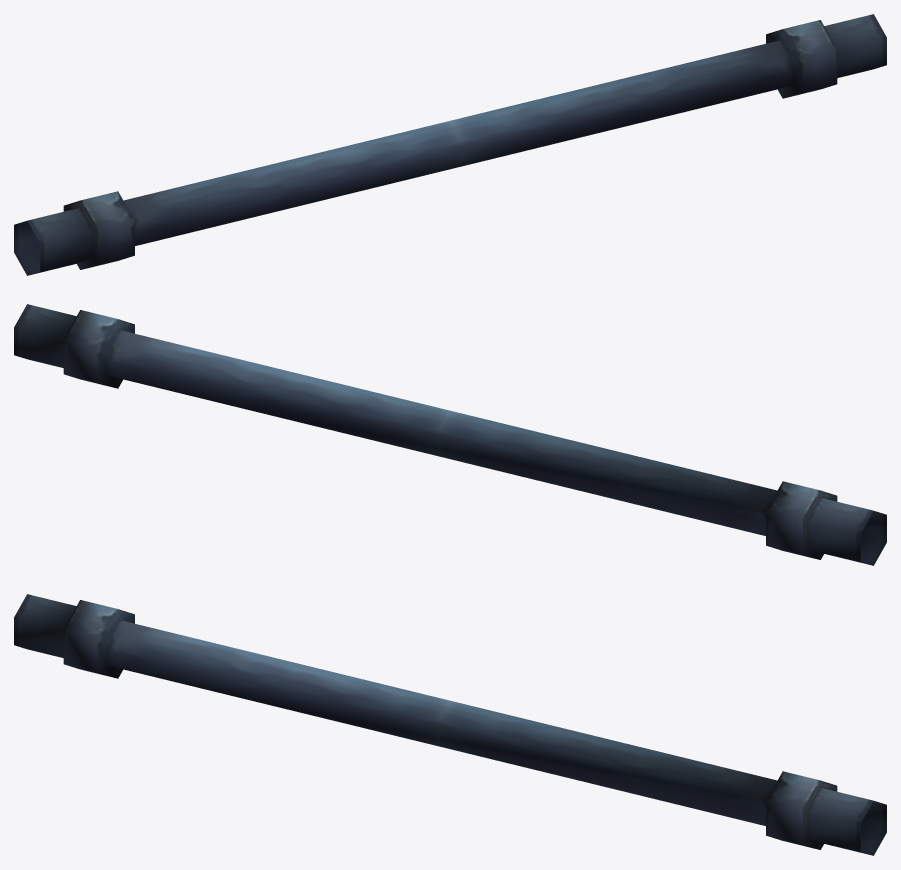
Rendered from mesh_Pt_sewb_props_21.FBX.
3 renders of one model, top to bottom at view 1: azimuth 30°, elevation 25°; view 2: azimuth 150°, elevation 25°; view 3: azimuth 330°, elevation 25°, orthographic.
Parts seen in each view (by area): view 1: polySurface198; view 2: polySurface198; view 3: polySurface198.
Part boxes in pixels (x1,y1,x2,y2): polySurface198: (14,14,886,275); polySurface198: (14,304,886,565); polySurface198: (14,594,886,855).
Size of the model in its own units: 0.1787 by 0.0141 by 0.0122.
